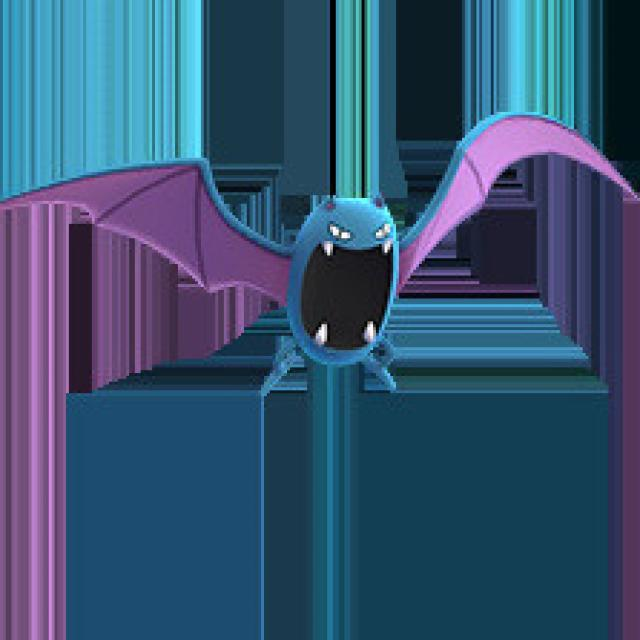Golbat: (181, 160, 498, 392)
